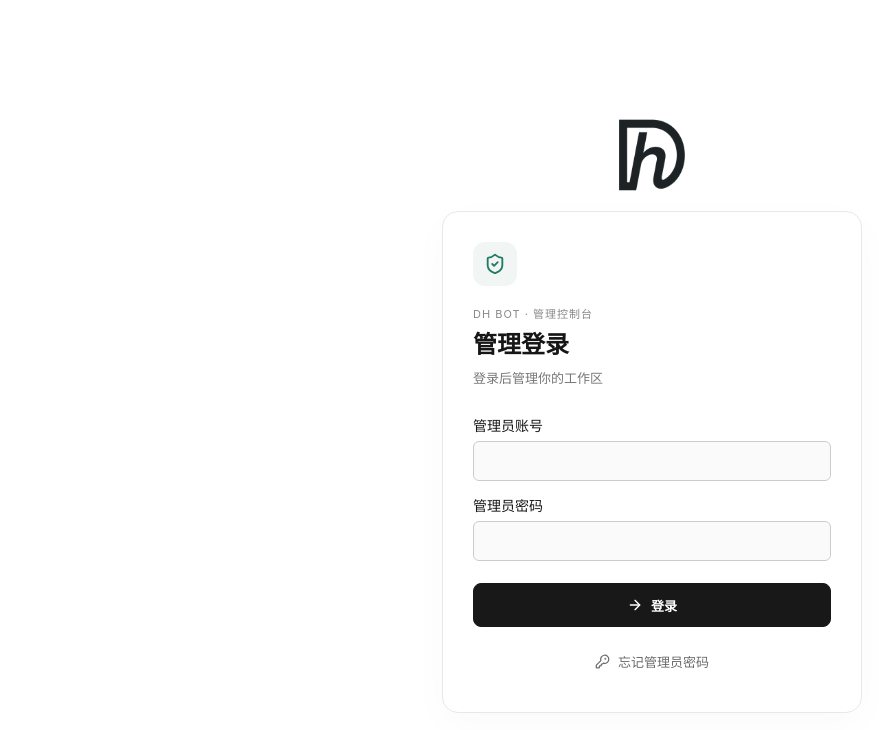
Scenario: requires administrator username and password after setup discovery
Type "owner" into the field labelled "管理员账号" at (652, 461), box top-left (473, 441), bottom-right (831, 481)
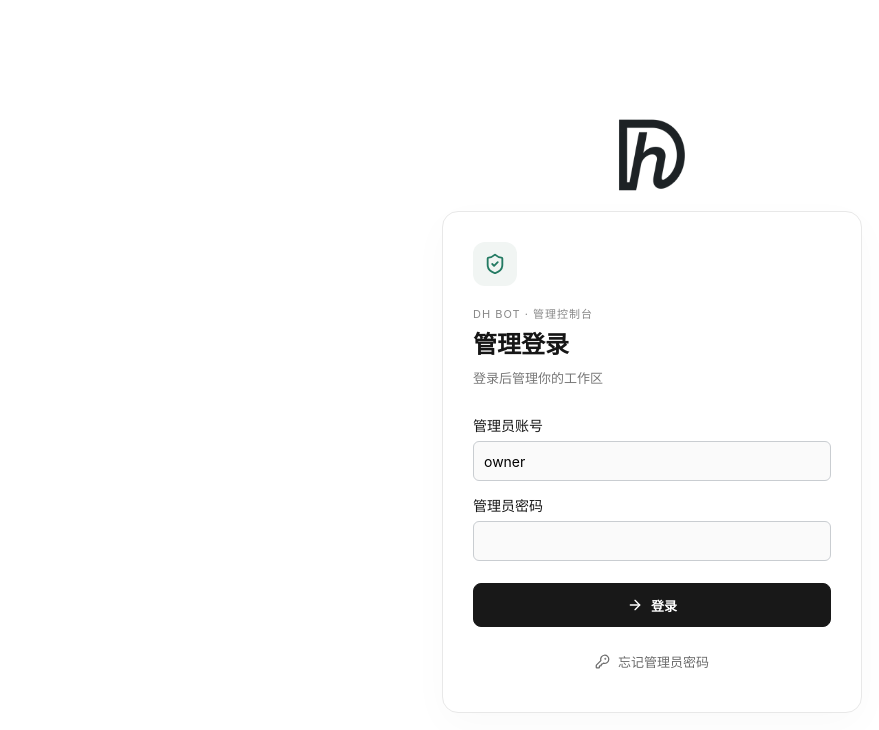
Type "synthetic-password" into the password field labelled "管理员密码" at (652, 541), box top-left (473, 521), bottom-right (831, 561)
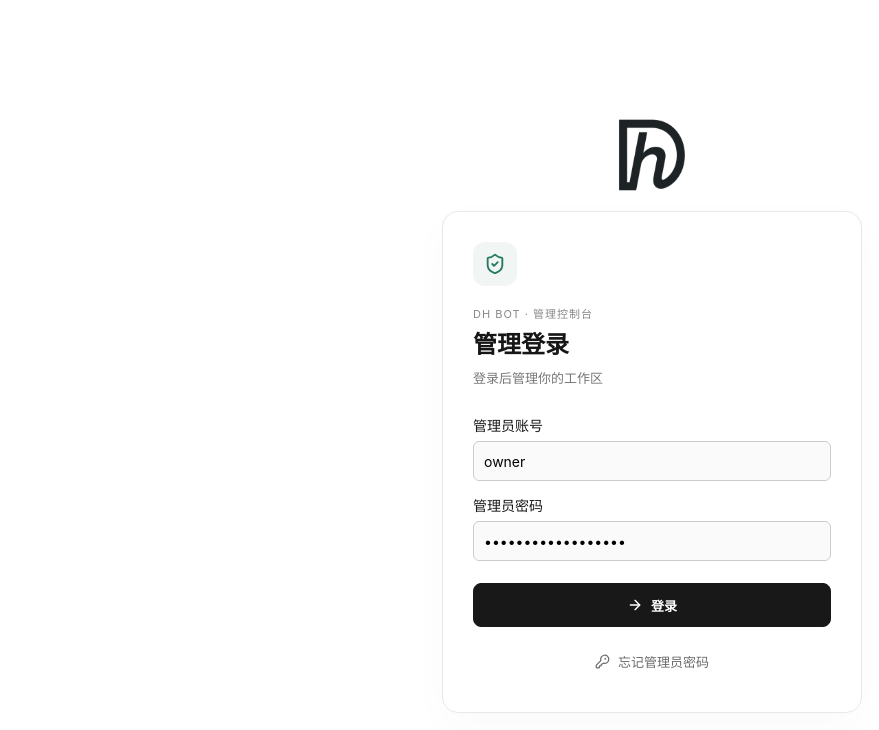
Click the button "登录" at (652, 605), box top-left (473, 583), bottom-right (831, 627)
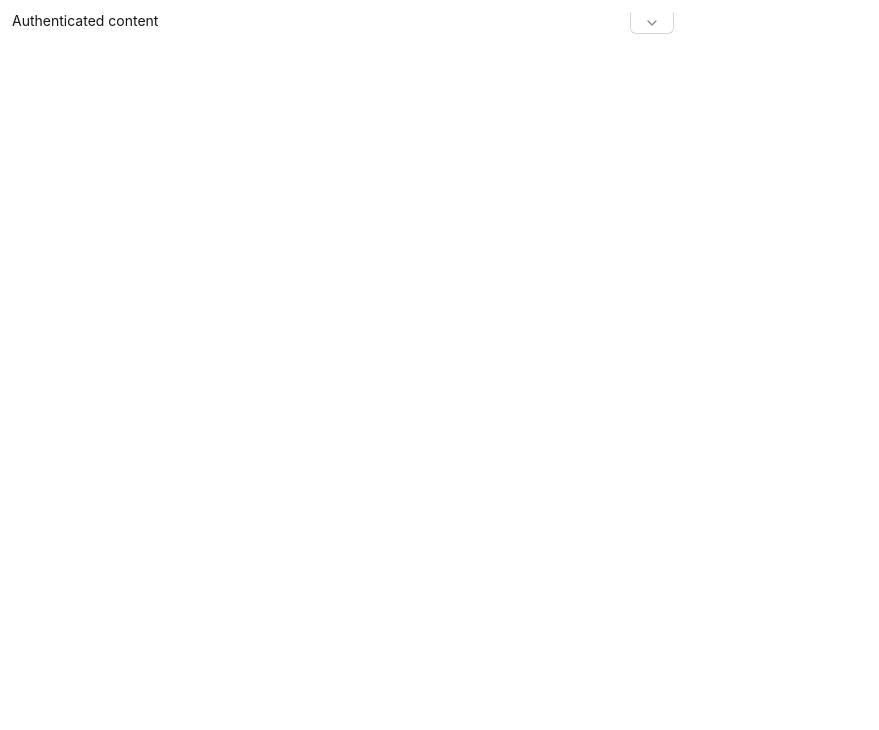
Expected: the text "Authenticated content" is shown, top-left (12, 12), bottom-right (158, 29)
